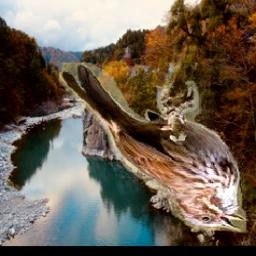Sparrow: (59, 64, 248, 235)
